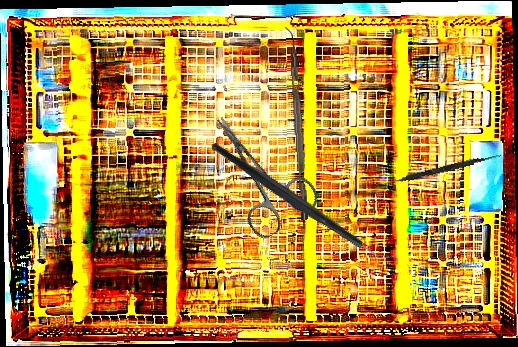Chopper: (209, 93, 401, 311), (280, 26, 309, 221)
Iris Scissors: (190, 96, 324, 243)
Spatula Surgical: (374, 150, 502, 191)
